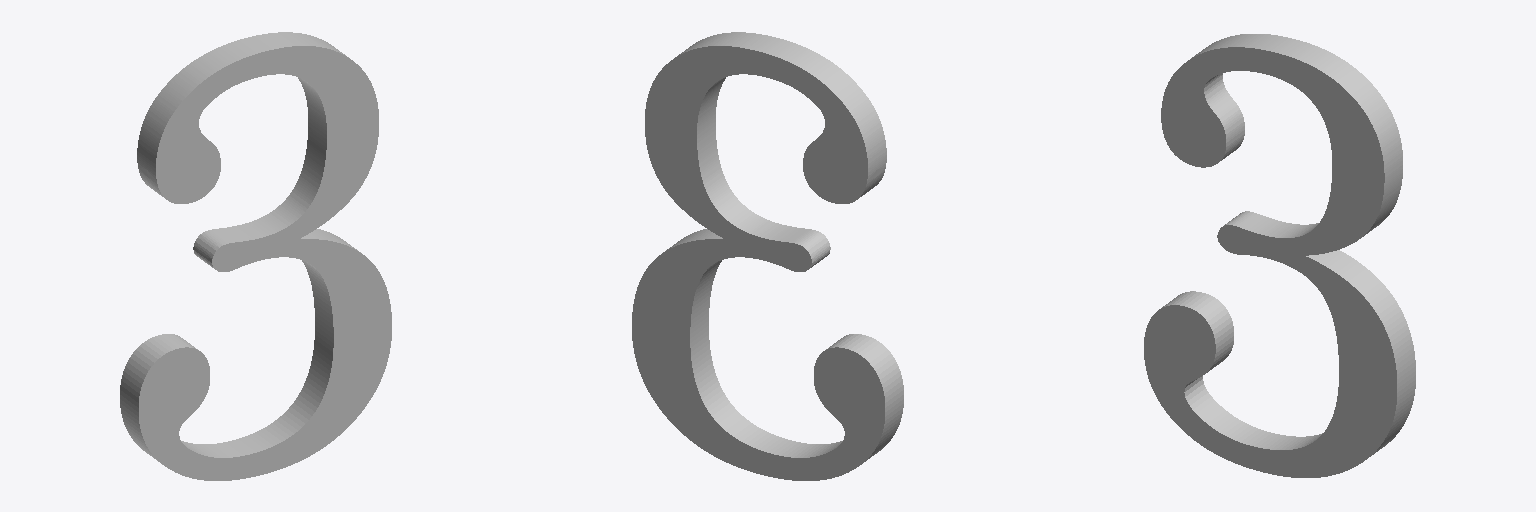
3 renders of one model, left to right at view 1: azimuth 30°, elevation 25°; view 2: azimuth 150°, elevation 25°; view 3: azimuth 330°, elevation 25°, orthographic.
Parts seen in each view (by area): view 1: mmGroup0; view 2: mmGroup0; view 3: mmGroup0.
Part boxes in pixels (x1,y1,x2,y2): mmGroup0: (120, 32, 391, 480); mmGroup0: (632, 32, 903, 480); mmGroup0: (1144, 34, 1415, 477).
Bounding box in the file's own units: 4.7 × 7.49 × 0.6.